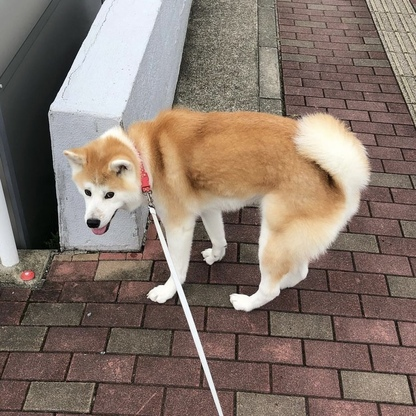akita: (59, 100, 379, 319)
